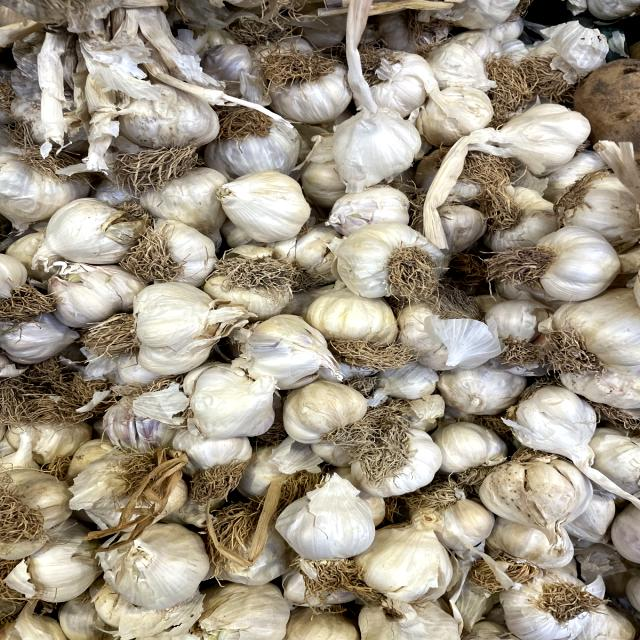garlic: (488, 215, 635, 312), (103, 272, 253, 361), (265, 468, 396, 568), (315, 216, 453, 307), (325, 87, 416, 195), (208, 165, 323, 248)
